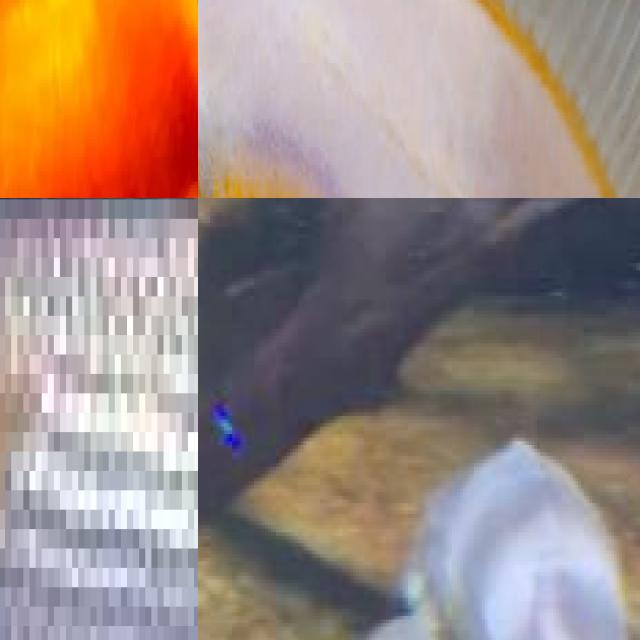fish: (333, 405, 640, 640), (0, 0, 198, 198)
